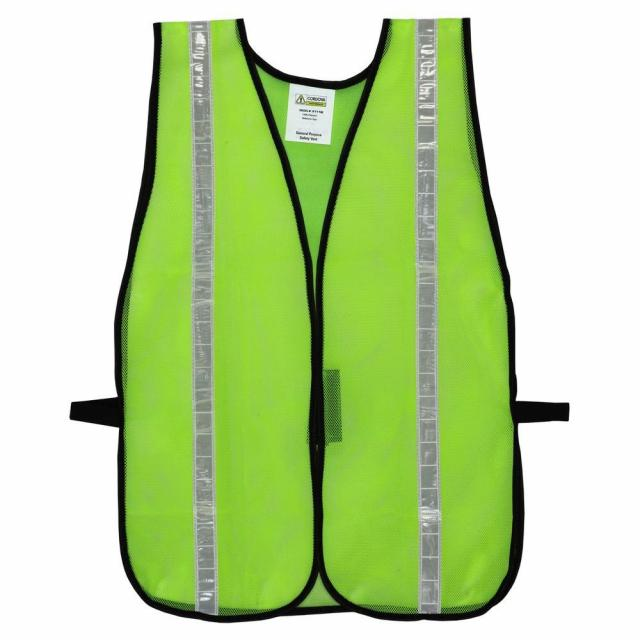Reflective-Jacket: (39, 0, 586, 640)
